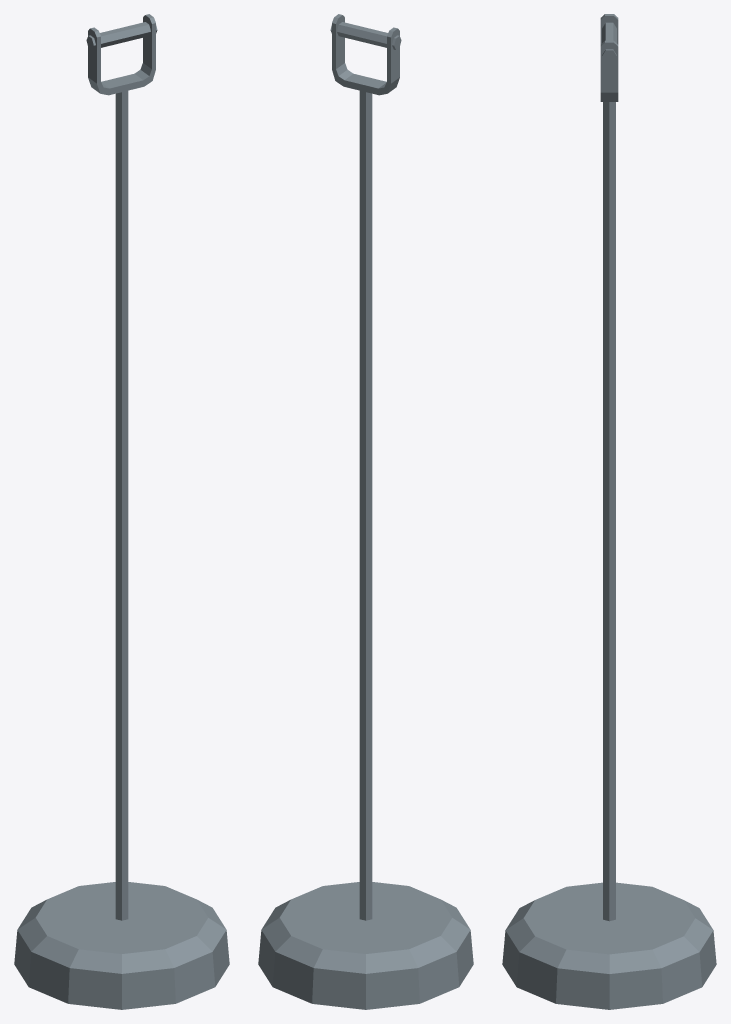
File: SM_Prop_Microphone_Stand_02.obj
3 views of the same model, side by side, from view 1: azimuth 30°, elevation 25°; view 2: azimuth 150°, elevation 25°; view 3: azimuth 270°, elevation 25° (orthographic).
Parts seen in each view (by area): view 1: SM_Prop_Microphone_Stand_02_0; view 2: SM_Prop_Microphone_Stand_02_0; view 3: SM_Prop_Microphone_Stand_02_0.
Part boxes in pixels (box(x1,y1,x2,y2)): SM_Prop_Microphone_Stand_02_0: box(14, 14, 229, 1009); SM_Prop_Microphone_Stand_02_0: box(258, 14, 473, 1009); SM_Prop_Microphone_Stand_02_0: box(502, 14, 716, 1009).
Size of the model in its own units: 0.309 by 1.49 by 0.309.
Materials: 1 (1 with a texture image).
